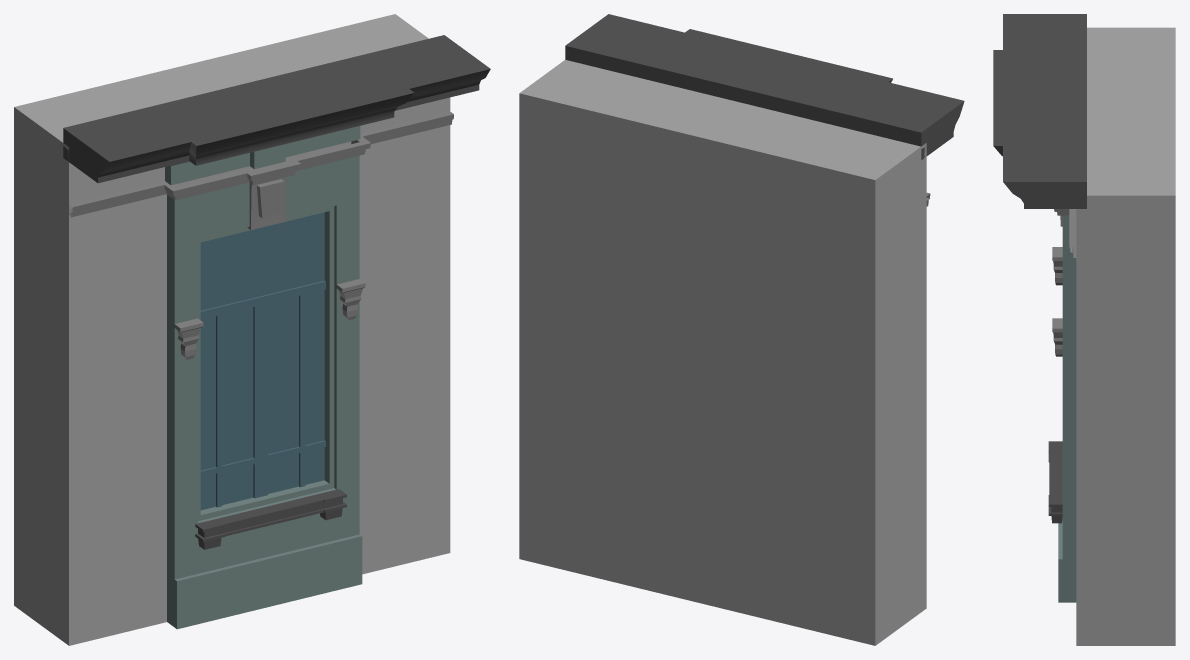
The model's file is SM_Build01_Wall_05.fbx.
3 renders of one model, left to right at view 1: azimuth 30°, elevation 25°; view 2: azimuth 150°, elevation 25°; view 3: azimuth 270°, elevation 25°, orthographic. The views are drawn at different scales.
Parts seen in each view (by area): view 1: SM_Build01_Wall_05; view 2: SM_Build01_Wall_05; view 3: SM_Build01_Wall_05.
Boxes of the visible parts, bbox=[...] form: SM_Build01_Wall_05: bbox=[14, 14, 490, 645]; SM_Build01_Wall_05: bbox=[519, 14, 964, 645]; SM_Build01_Wall_05: bbox=[993, 14, 1175, 645].
Bounding box in the file's own units: 400 × 515 × 183.
